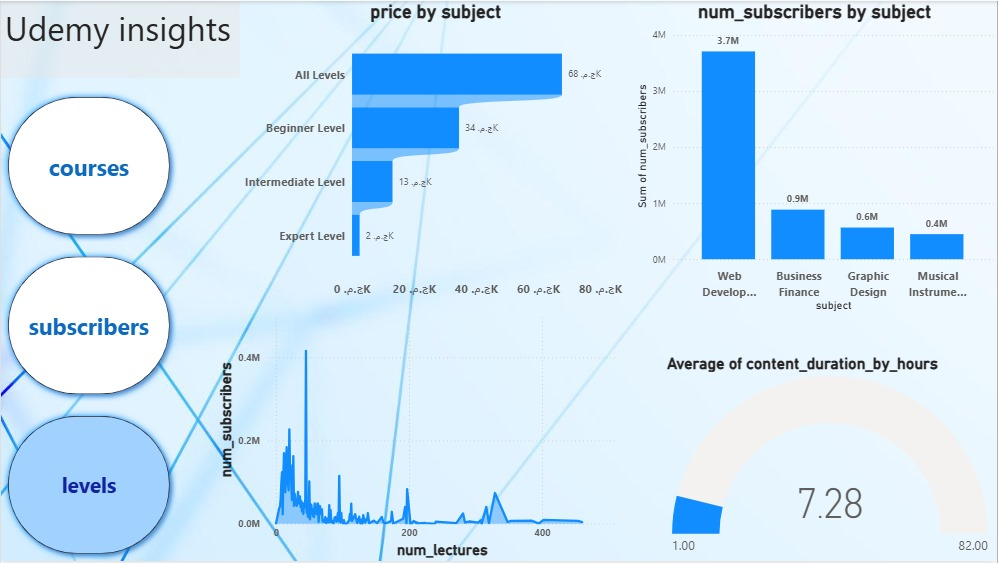

The dashboard page shown, as its layout file describes it:
{"tool":"powerbi","page":{"name":"levels","canvas":[1280,720],"ordinal":2},"visuals":[{"type":"areaChart","title":"num_subscribers by num_lectures","fields":{"Category":["Udemy.num_lectures"],"Y":["Sum(Udemy.num_subscribers)"]},"box":[272.4,390.4,524.6,330.1],"z":0},{"type":"barChart","title":"price by subject","fields":{"Y":["Sum(Udemy.price)"],"Category":["Udemy.level"]},"box":[307.3,0,503.1,390.4],"z":1000},{"type":"gauge","title":"Average of content_duration_by_hours","fields":{"Y":["Avg(Udemy.content_duration_by_hours)"],"MinValue":["Min(Udemy.content_duration_by_hours)"],"MaxValue":["Max(Udemy.content_duration_by_hours)"]},"box":[850.6,453.5,429.4,267],"z":2000},{"type":"textbox","box":[0,0,307.3,99.3],"z":3000},{"type":"clusteredColumnChart","title":"num_subscribers by subject","fields":{"Category":["Udemy.subject"],"Y":["Sum(Udemy.num_subscribers)"]},"box":[810.4,0,469.6,403.9],"z":4000},{"type":"pageNavigator","box":[0,114.4,226.2,605.3],"z":4001}]}

Visuals, with their boxes in screenshot pixels (x1, y1, x2, y2), scaled from the page's 1280x720 canvas onto the 998x563 screenshot:
"num_subscribers by num_lectures" areaChart: {"x1": 212, "y1": 305, "x2": 621, "y2": 562}
"price by subject" barChart: {"x1": 240, "y1": 0, "x2": 632, "y2": 305}
"Average of content_duration_by_hours" gauge: {"x1": 663, "y1": 355, "x2": 997, "y2": 562}
textbox: {"x1": 0, "y1": 0, "x2": 240, "y2": 78}
"num_subscribers by subject" clusteredColumnChart: {"x1": 632, "y1": 0, "x2": 997, "y2": 316}
pageNavigator: {"x1": 0, "y1": 89, "x2": 176, "y2": 562}
